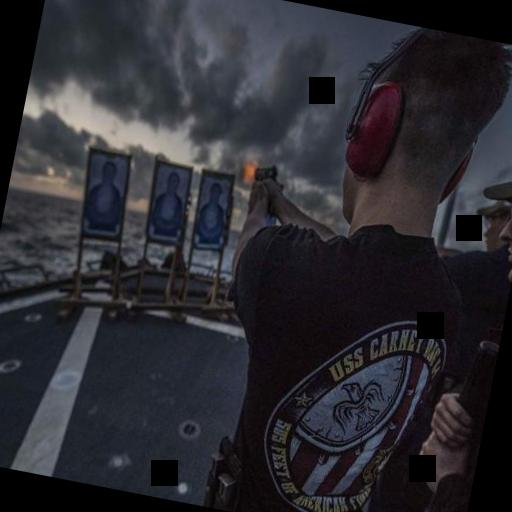Handgun: (246, 156, 282, 194)
